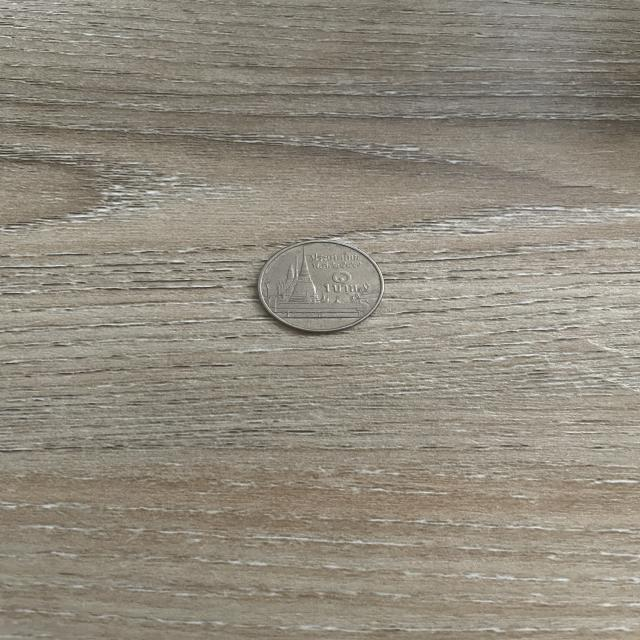1 Bath: (251, 232, 395, 344)
